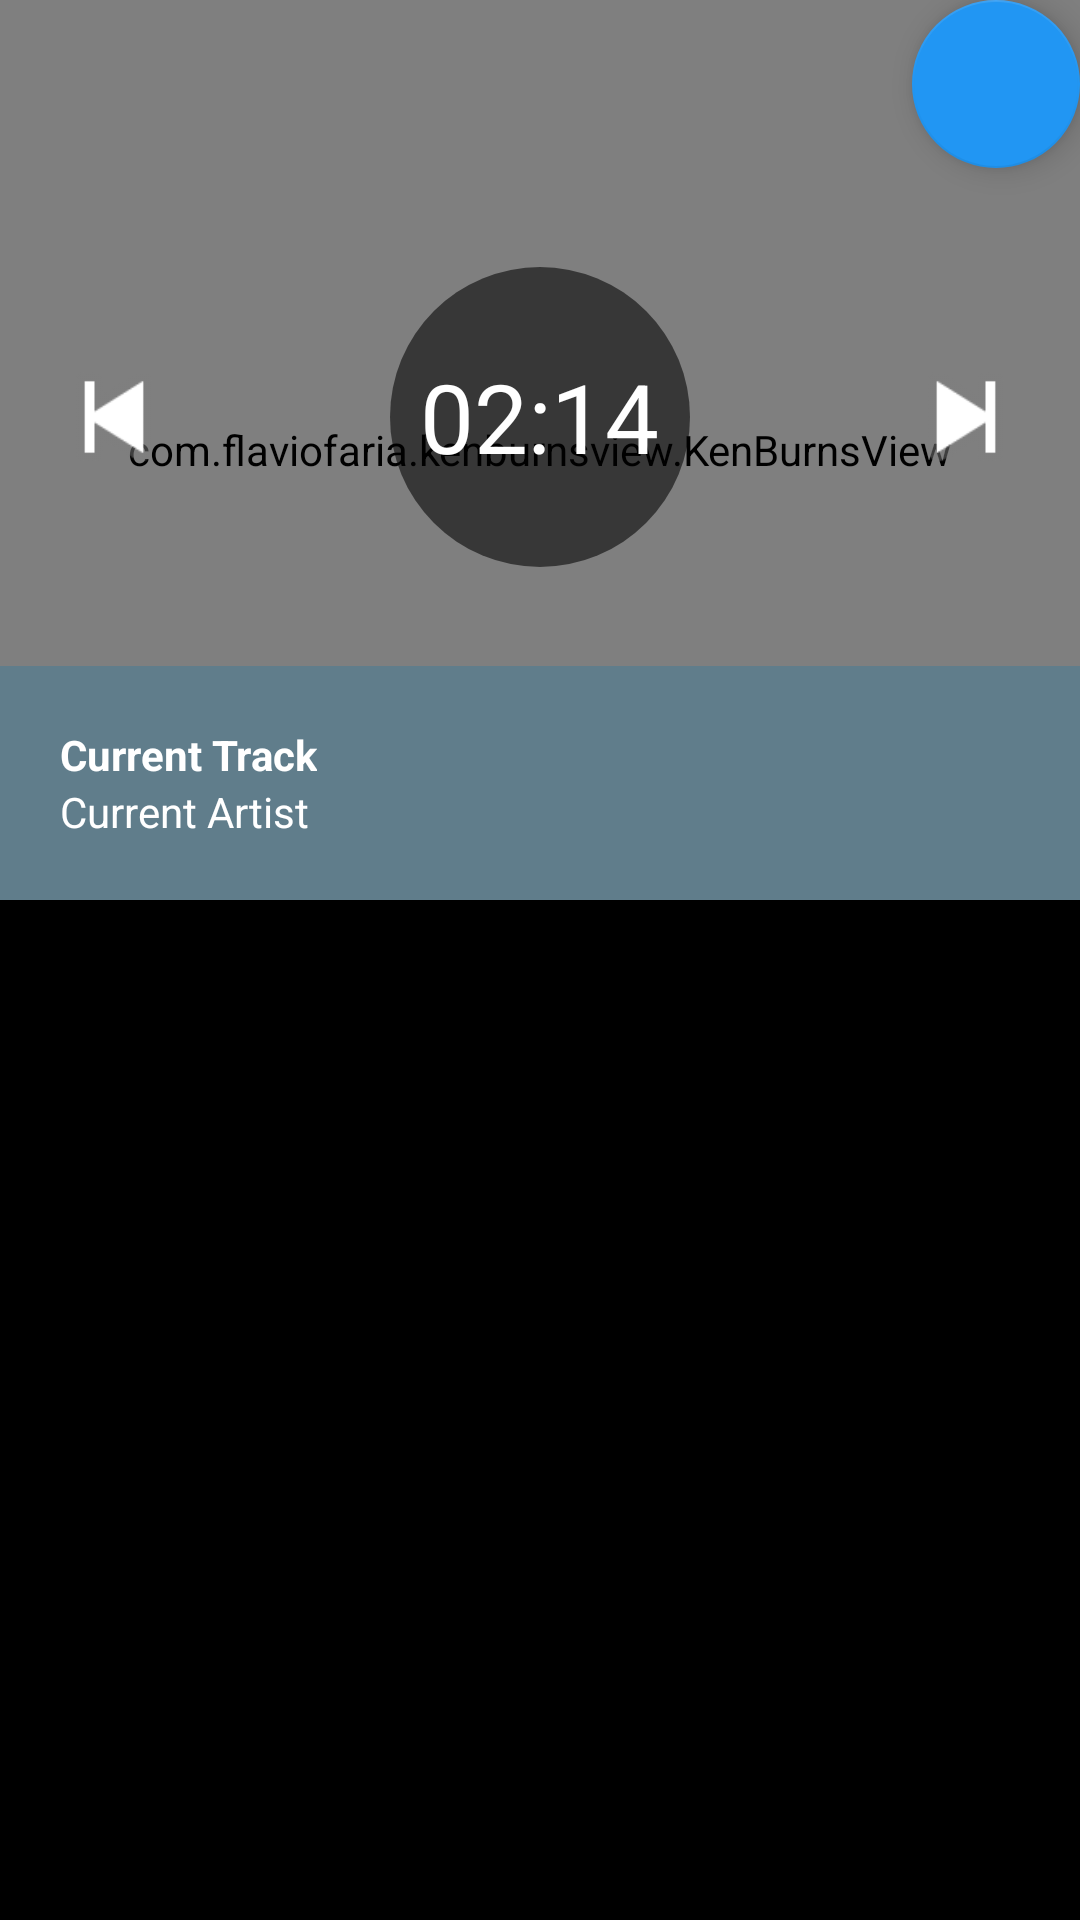

Icons on this 1080x1920 Android screen, each with the point to tap as (x,y):
next: (943,424)
previous: (128,424)
